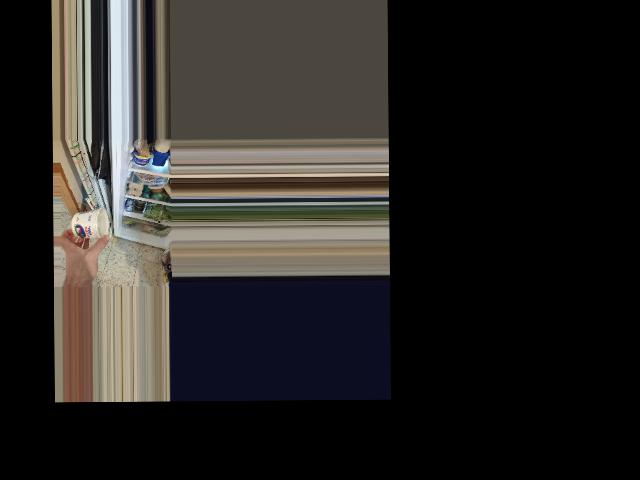cotage: (69, 208, 109, 240)
